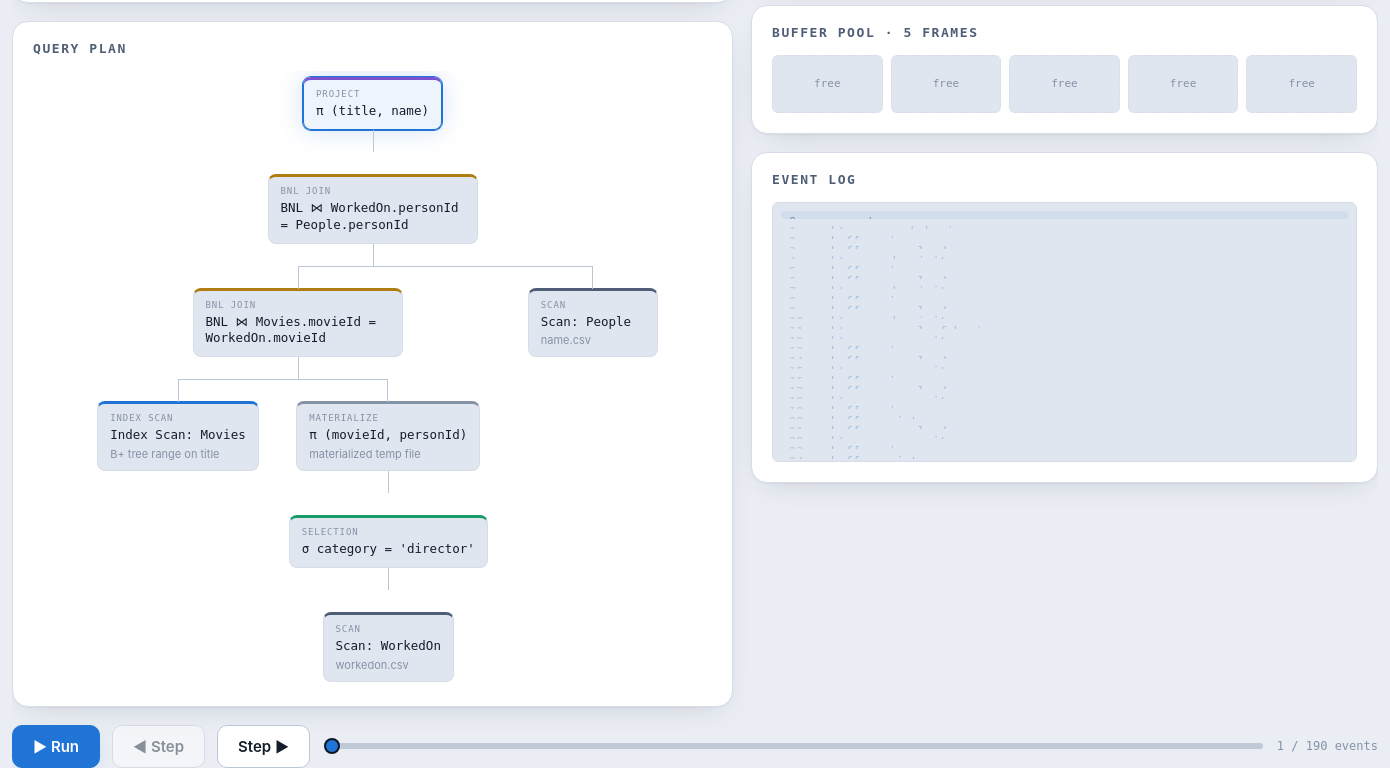
Scenario: DemoPlayer › advances the cursor when stepping forward
This screenshot has width=1390, height=768.
(page scrolled)
Click the button "Step ▶": click(264, 746) [217,725,310,767]
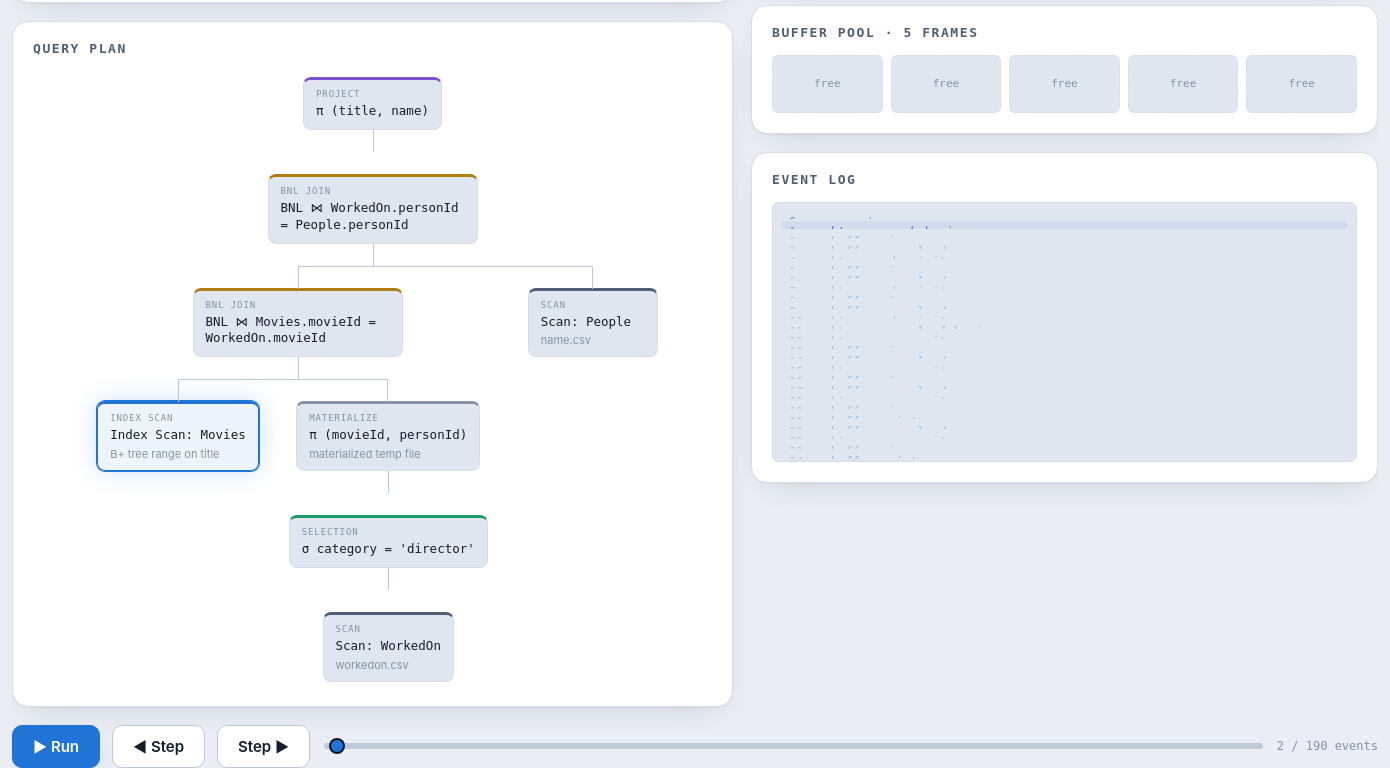
Result: the text "2 / 190 events" is shown at [1277,739,1378,753]
Result: the button "◀ Step" is enabled at [112,725,205,767]
